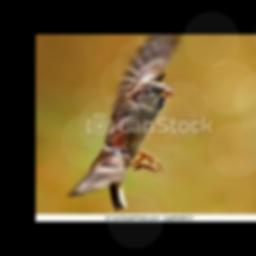Sparrow: (67, 34, 180, 211)
